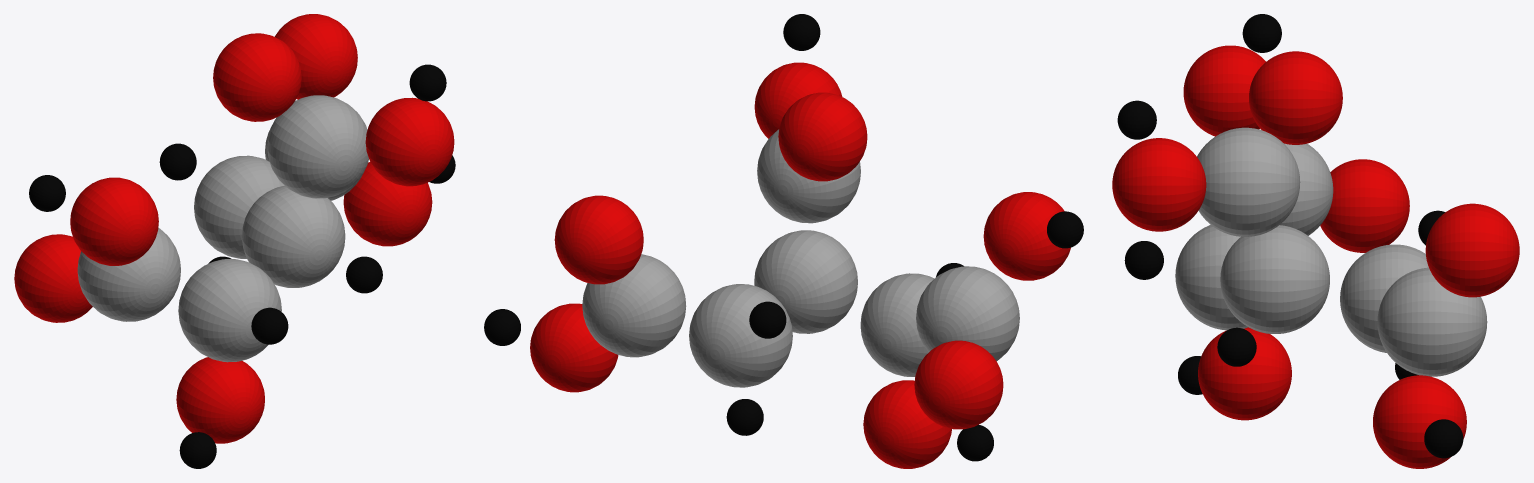
The model's file is Ascorbic Acid (Vitamin C).glb.
The picture shows the model from 3 angles, left to right: view 1: azimuth 30°, elevation 25°; view 2: azimuth 150°, elevation 25°; view 3: azimuth 270°, elevation 25°; orthographic projection. The views are drawn at different scales.
Parts seen in each view (by area): view 1: world; view 2: world; view 3: world.
Part boxes in pixels (bbox=[...]): world: bbox=[14, 14, 455, 468]; world: bbox=[484, 14, 1083, 468]; world: bbox=[1112, 14, 1519, 468].
Size of the model in its own units: 7.92 by 5.56 by 5.2.
